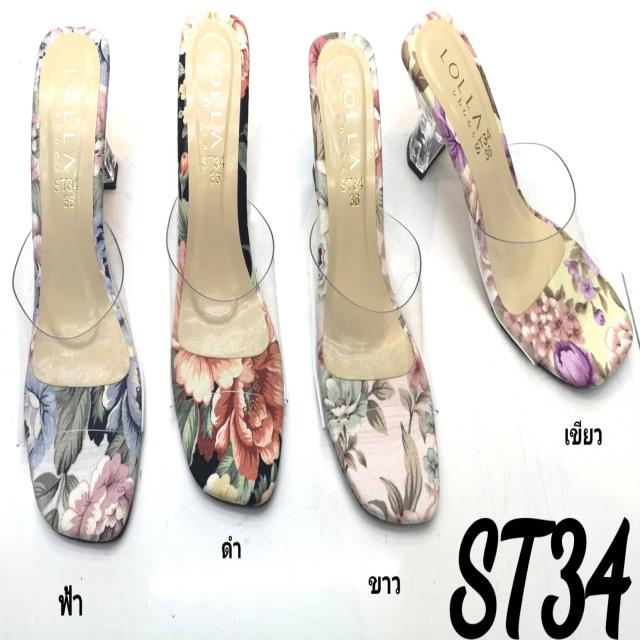black: (168, 9, 282, 510)
blue: (27, 28, 141, 540)
green: (400, 16, 628, 391)
white: (307, 34, 440, 526)
